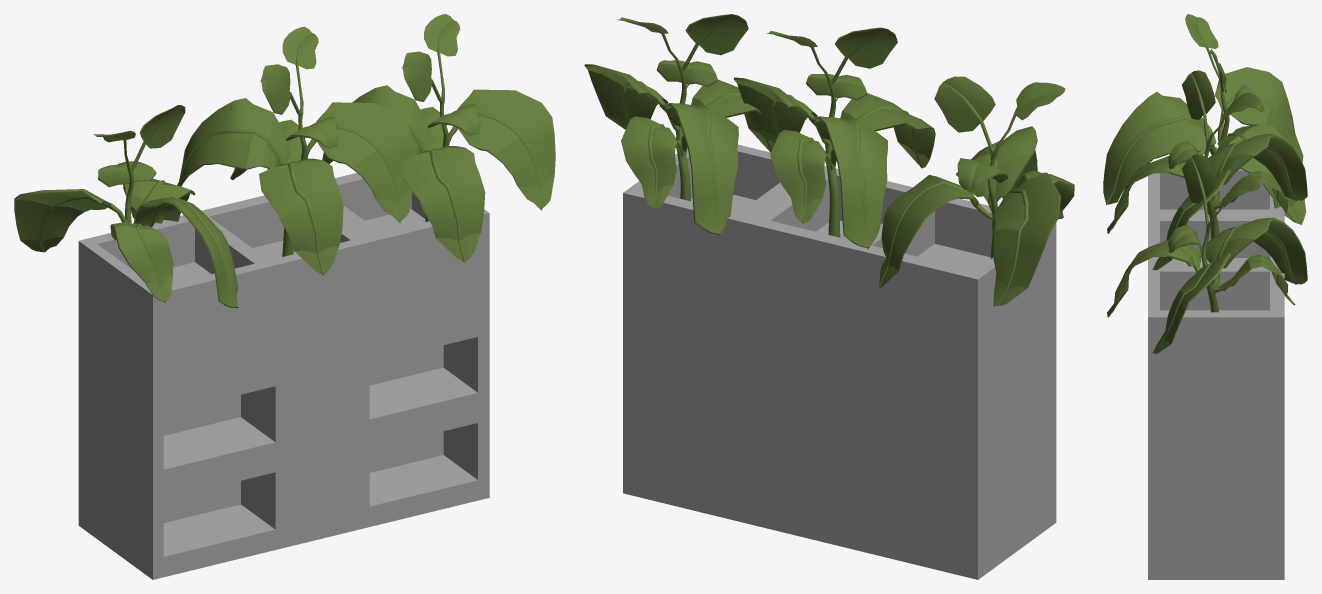
The model's file is maseta1.fbx.
3 views of the same model, side by side, from view 1: azimuth 30°, elevation 25°; view 2: azimuth 150°, elevation 25°; view 3: azimuth 270°, elevation 25° (orthographic). The views are drawn at different scales.
Visible parts, largest first — view 1: pCube21, sweep13, sweep14, sweep15; view 2: pCube21, sweep13, sweep14, sweep15; view 3: pCube21, sweep15, sweep14, sweep13.
Boxes of the visible parts, x1,y1,x2,y2 form: pCube21: [78, 173, 489, 579]; sweep13: [177, 26, 413, 275]; sweep14: [322, 14, 555, 262]; sweep15: [14, 105, 238, 308]; pCube21: [623, 144, 1056, 579]; sweep13: [733, 27, 935, 248]; sweep14: [584, 14, 774, 235]; sweep15: [878, 76, 1074, 306]; pCube21: [1148, 168, 1284, 579]; sweep15: [1103, 14, 1306, 224]; sweep14: [1107, 154, 1307, 353]; sweep13: [1107, 70, 1307, 270].
Bounding box in the file's own units: 5.49 × 4.9 × 2.16.
